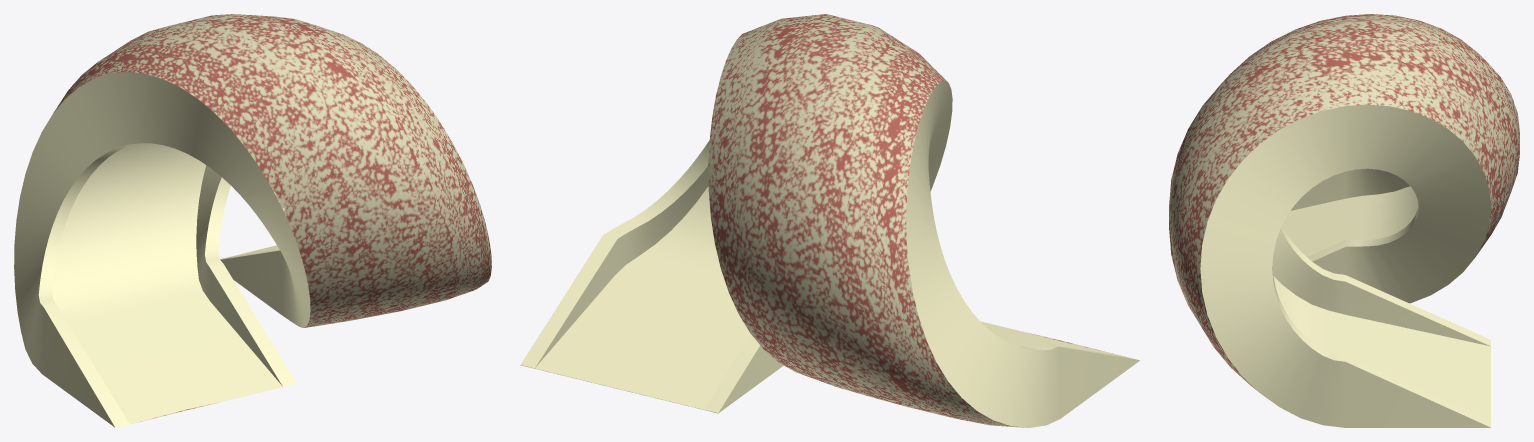
Rendered from LoopDeLoop.fbx.
3 renders of one model, left to right at view 1: azimuth 30°, elevation 25°; view 2: azimuth 150°, elevation 25°; view 3: azimuth 270°, elevation 25°, orthographic. The views are drawn at different scales.
Parts seen in each view (by area): view 1: LoopDeLoopLPOutside; view 2: LoopDeLoopLPOutside; view 3: LoopDeLoopLPOutside.
Boxes of the visible parts, x1,y1,x2,y2 form: LoopDeLoopLPOutside: (14, 14, 491, 427); LoopDeLoopLPOutside: (520, 14, 1139, 427); LoopDeLoopLPOutside: (1169, 14, 1519, 427).
Bounding box in the file's own units: 166 × 111 × 121.
